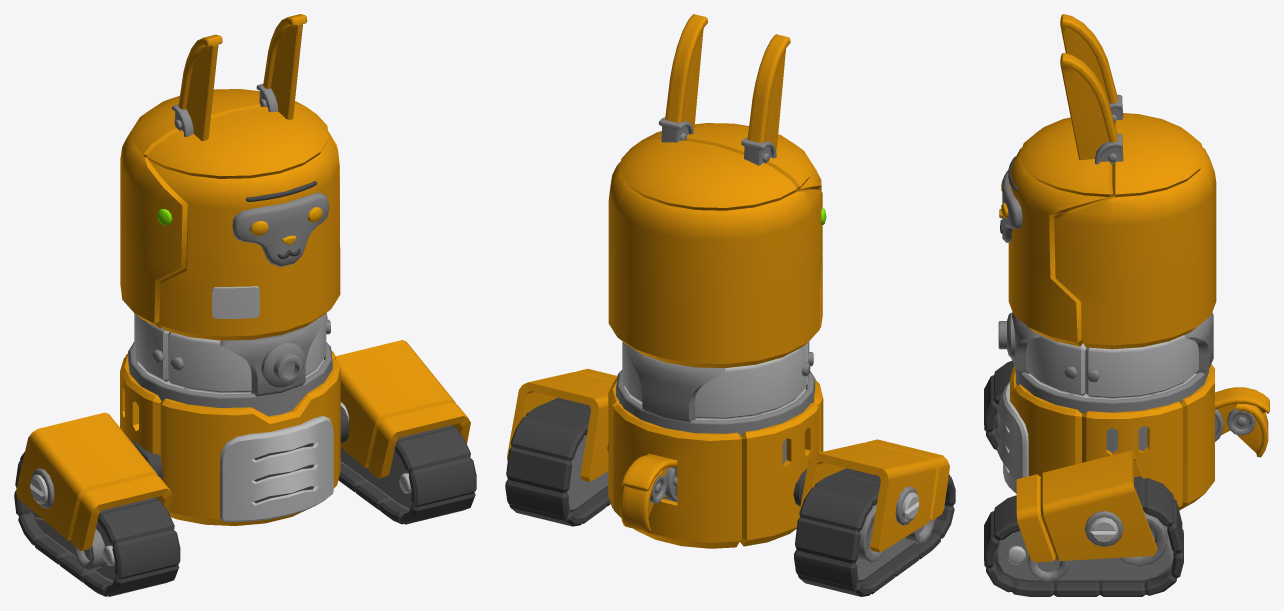
The model's file is LamaBot.fbx.
3 renders of one model, left to right at view 1: azimuth 30°, elevation 25°; view 2: azimuth 150°, elevation 25°; view 3: azimuth 270°, elevation 25°, orthographic. The views are drawn at different scales.
Parts seen in each view (by area): view 1: Head, LamaBot, Whell_Right, Whell_Left, Hook_Holder, Ear_Right, Ear_Left; view 2: Head, LamaBot, Whell_Right, Whell_Left, Hook_Holder, Ear_Right, Ear_Left, Tail_B, Tail_A; view 3: Head, Whell_Left, LamaBot, Hook_Holder, Ear_Left, Ear_Right, Tail_B, Whell_Right, Tail_A.
Part boxes in pixels (box(x1,y1,x2,y2)): Head: box(120, 84, 340, 340); LamaBot: box(120, 342, 349, 525); Whell_Right: box(14, 412, 180, 596); Whell_Left: box(336, 340, 476, 524); Hook_Holder: box(134, 313, 330, 396); Ear_Right: box(178, 34, 222, 140); Ear_Left: box(263, 14, 307, 119); Head: box(608, 117, 826, 367); LamaBot: box(607, 370, 823, 548); Whell_Right: box(794, 439, 955, 596); Whell_Left: box(505, 368, 617, 526); Hook_Holder: box(622, 341, 813, 422); Ear_Right: box(747, 34, 790, 149); Ear_Left: box(665, 14, 707, 128); Tail_B: box(620, 470, 666, 531); Tail_A: box(621, 454, 677, 498); Head: box(999, 94, 1216, 349); Whell_Left: box(984, 450, 1183, 596); LamaBot: box(996, 364, 1223, 510); Hook_Holder: box(998, 312, 1213, 398); Ear_Left: box(1060, 53, 1117, 160); Ear_Right: box(1060, 14, 1117, 103); Tail_B: box(1227, 403, 1268, 457); Whell_Right: box(984, 361, 1013, 449); Tail_A: box(1215, 387, 1269, 435).
Bounding box in the file's own units: 125 × 153 × 82.55.
